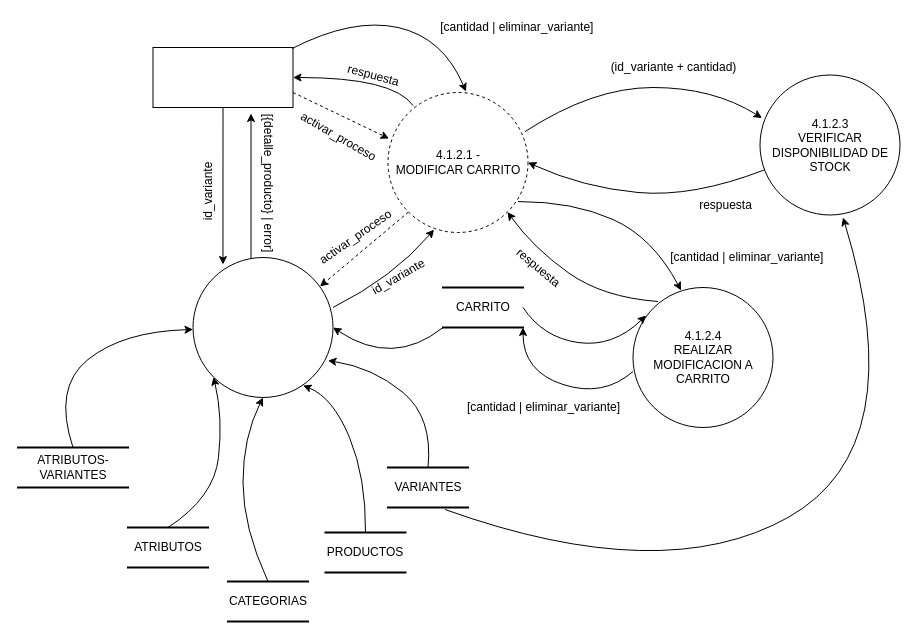
This 918x639 diagram has some shape labels left out. Here are the shapes that lost their labels. From the top down, the centre of each, then its label:
point 222,77: CLIENTE
point 262,327: 4.1.2.2 TRAER VARIANTES
